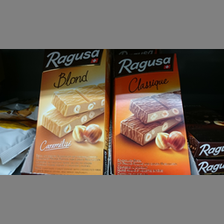chocolate: (114, 50, 192, 175), (35, 51, 111, 173)
